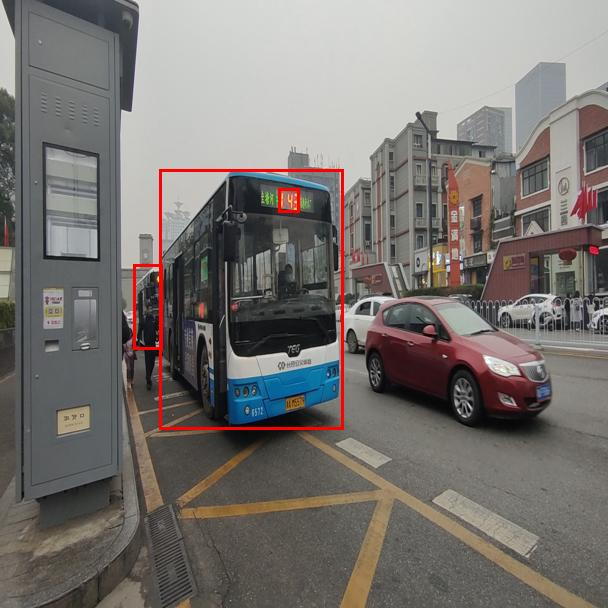bus: (159, 169, 343, 429), (133, 264, 162, 349)
screen: (278, 188, 299, 212)
